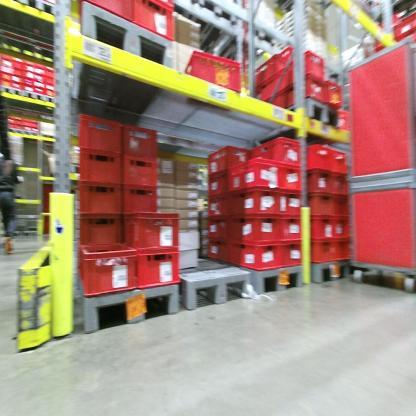pallets: (73, 1, 186, 113), (68, 274, 184, 339), (249, 246, 357, 298), (178, 259, 251, 309), (284, 94, 343, 129), (0, 85, 59, 107)
